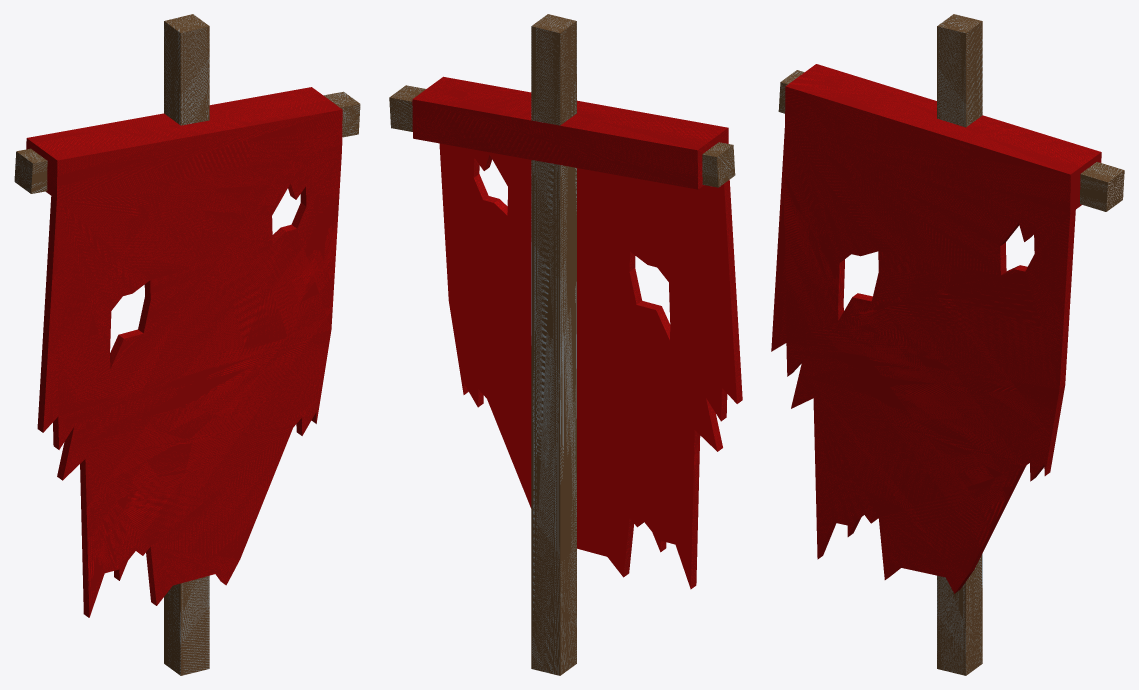
File: Banner_Torn_01.fbx
3 views of the same model, side by side, from view 1: azimuth 30°, elevation 25°; view 2: azimuth 150°, elevation 25°; view 3: azimuth 330°, elevation 25° (orthographic).
Parts seen in each view (by area): view 1: Model; view 2: Model; view 3: Model.
Part boxes in pixels (box(x1,y1,x2,y2)): Model: box(14, 14, 360, 675); Model: box(389, 14, 742, 675); Model: box(771, 14, 1124, 675).
Bounding box in the file's own units: 245 × 457 × 39.77.
